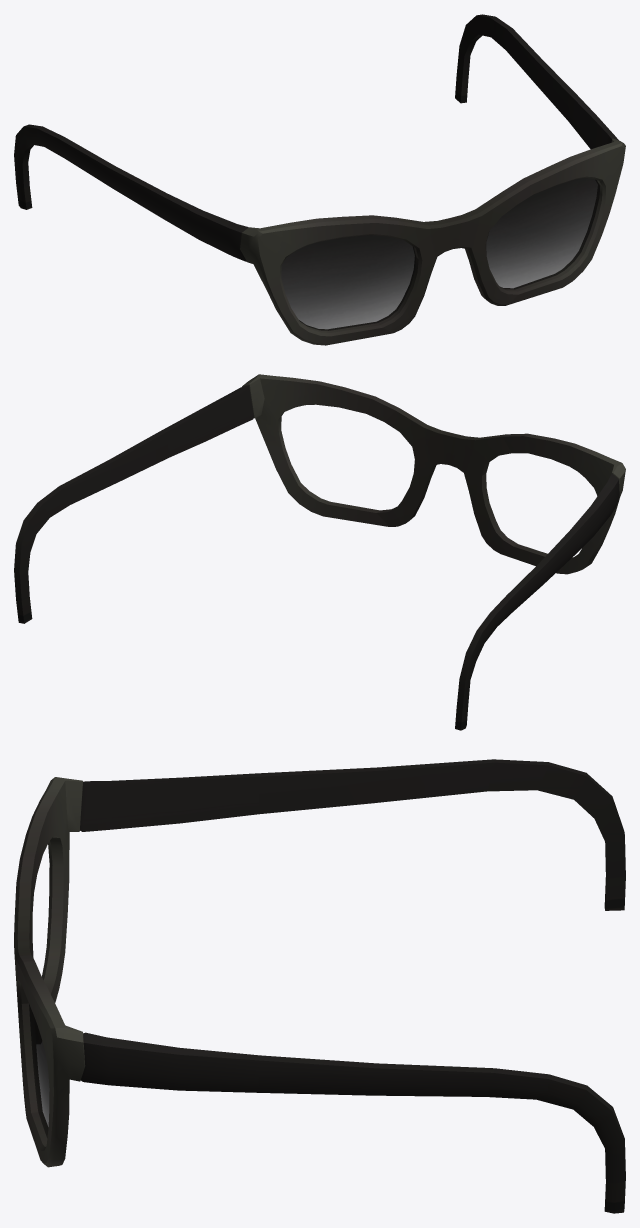
3 views of the same model, one above another, from view 1: azimuth 30°, elevation 25°; view 2: azimuth 150°, elevation 25°; view 3: azimuth 270°, elevation 25° (orthographic). The views are drawn at different scales.
Parts seen in each view (by area): view 1: Wolf3D_Glasses; view 2: Wolf3D_Glasses; view 3: Wolf3D_Glasses.
Boxes of the visible parts, box(x1,y1,x2,y2) form: Wolf3D_Glasses: box(14, 14, 625, 345); Wolf3D_Glasses: box(14, 374, 625, 730); Wolf3D_Glasses: box(14, 759, 625, 1213).
Bounding box in the file's own units: 0.1663 × 0.0443 × 0.1354.
Materials: 1 (1 with a texture image).
